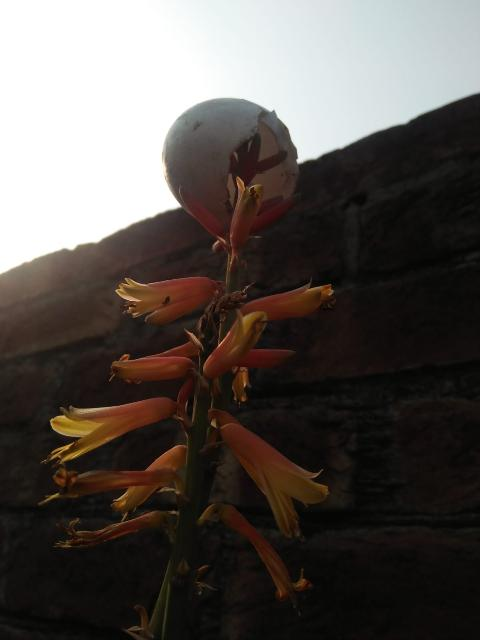Roto: (160, 96, 304, 232)
